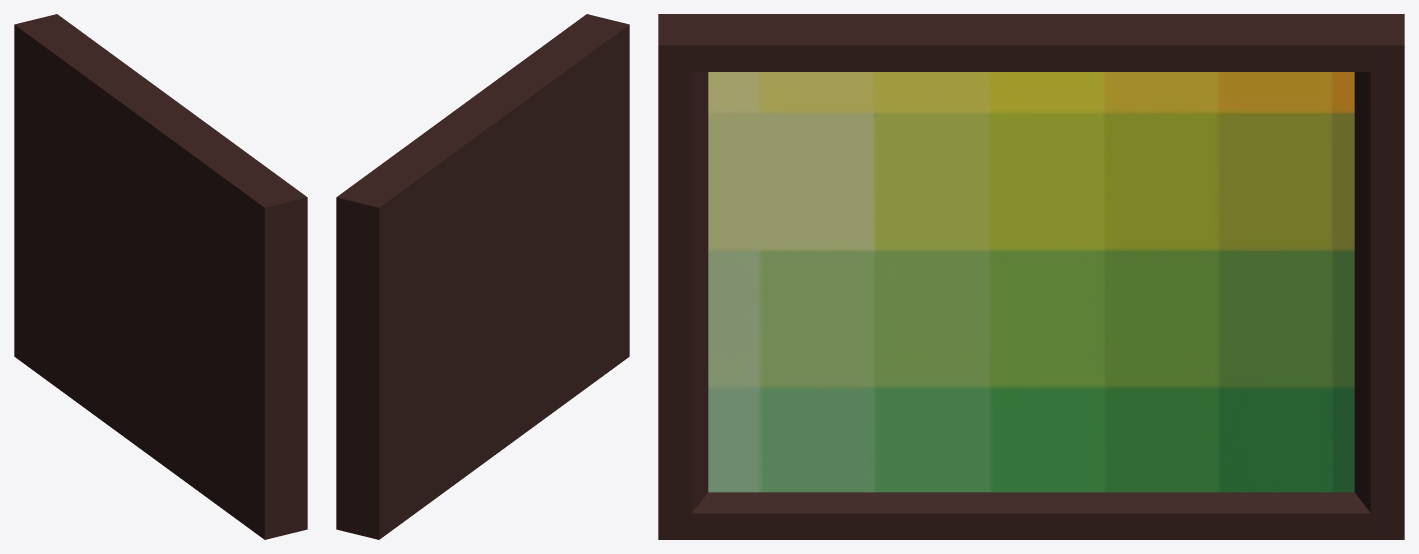
The model's file is painting1.fbx.
The picture shows the model from 3 angles, left to right: view 1: azimuth 30°, elevation 25°; view 2: azimuth 150°, elevation 25°; view 3: azimuth 270°, elevation 25°; orthographic projection. The views are drawn at different scales.
Visible parts, largest first — view 1: polySurface151.001; view 2: polySurface151.001; view 3: polySurface151.001.
Part boxes in pixels (bbox=[...]): polySurface151.001: bbox=[14, 14, 307, 539]; polySurface151.001: bbox=[336, 14, 629, 539]; polySurface151.001: bbox=[658, 14, 1404, 539].
Bounding box in the file's own units: 0.3845 × 2.85 × 3.89.
